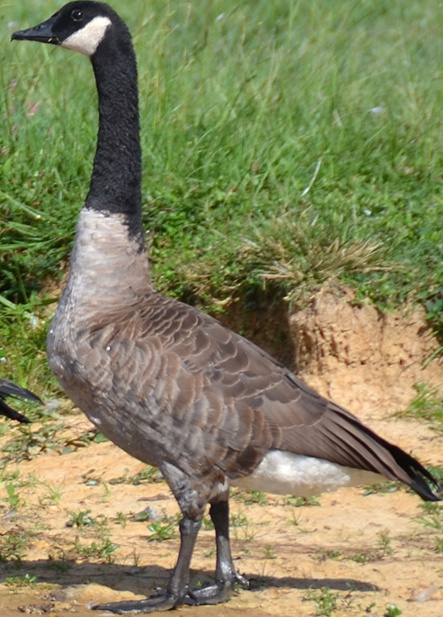goose: (6, 1, 433, 604)
